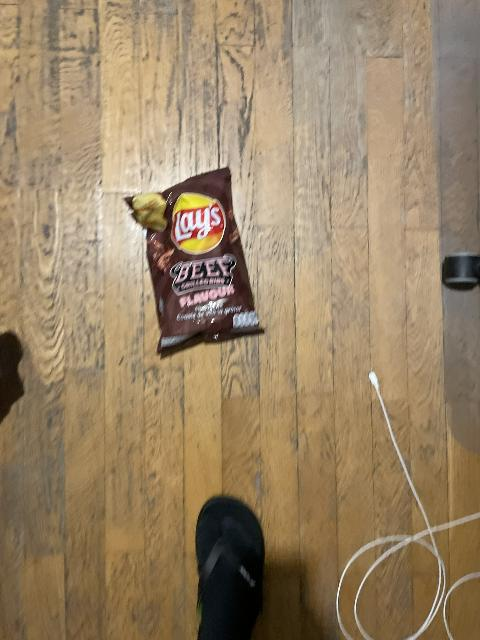Lays Beef Grilled Ribs 125g: (124, 167, 267, 350)
